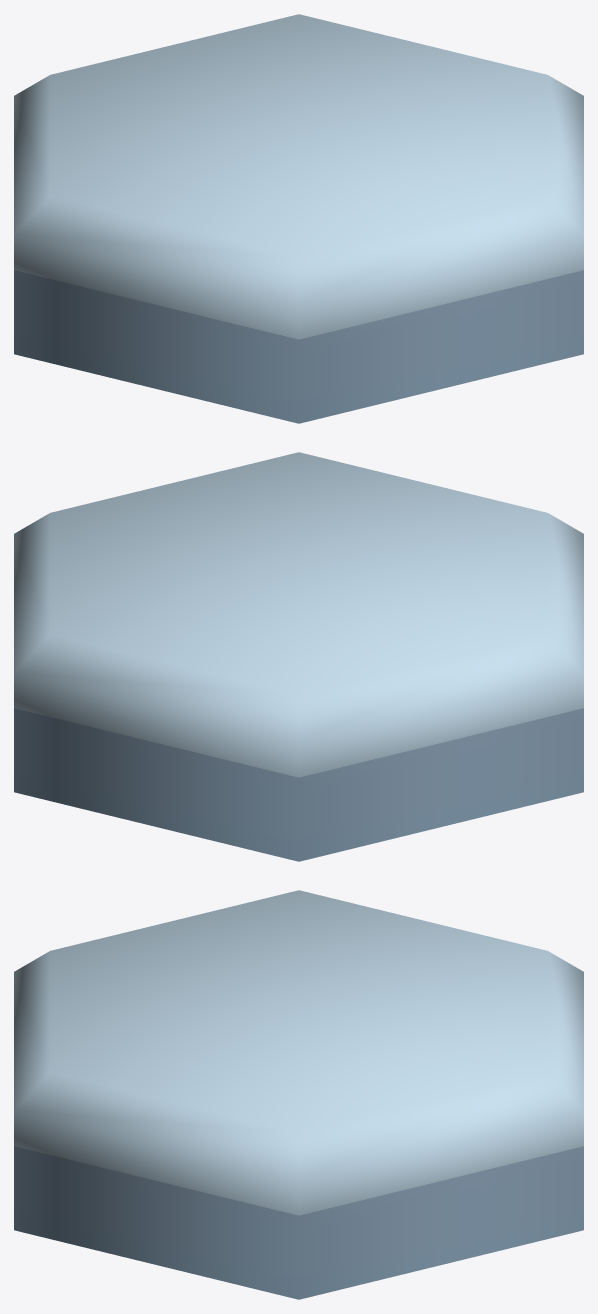
The model's file is hex-01b.glb.
3 views of the same model, one above another, from view 1: azimuth 30°, elevation 25°; view 2: azimuth 150°, elevation 25°; view 3: azimuth 270°, elevation 25° (orthographic).
Parts seen in each view (by area): view 1: Hex 01B; view 2: Hex 01B; view 3: Hex 01B.
Boxes of the visible parts, x1,y1,x2,y2 form: Hex 01B: [14, 14, 583, 423]; Hex 01B: [14, 452, 583, 861]; Hex 01B: [14, 890, 583, 1299].
Size of the model in its own units: 4 by 1 by 3.46.
1 material, 1 textured.
